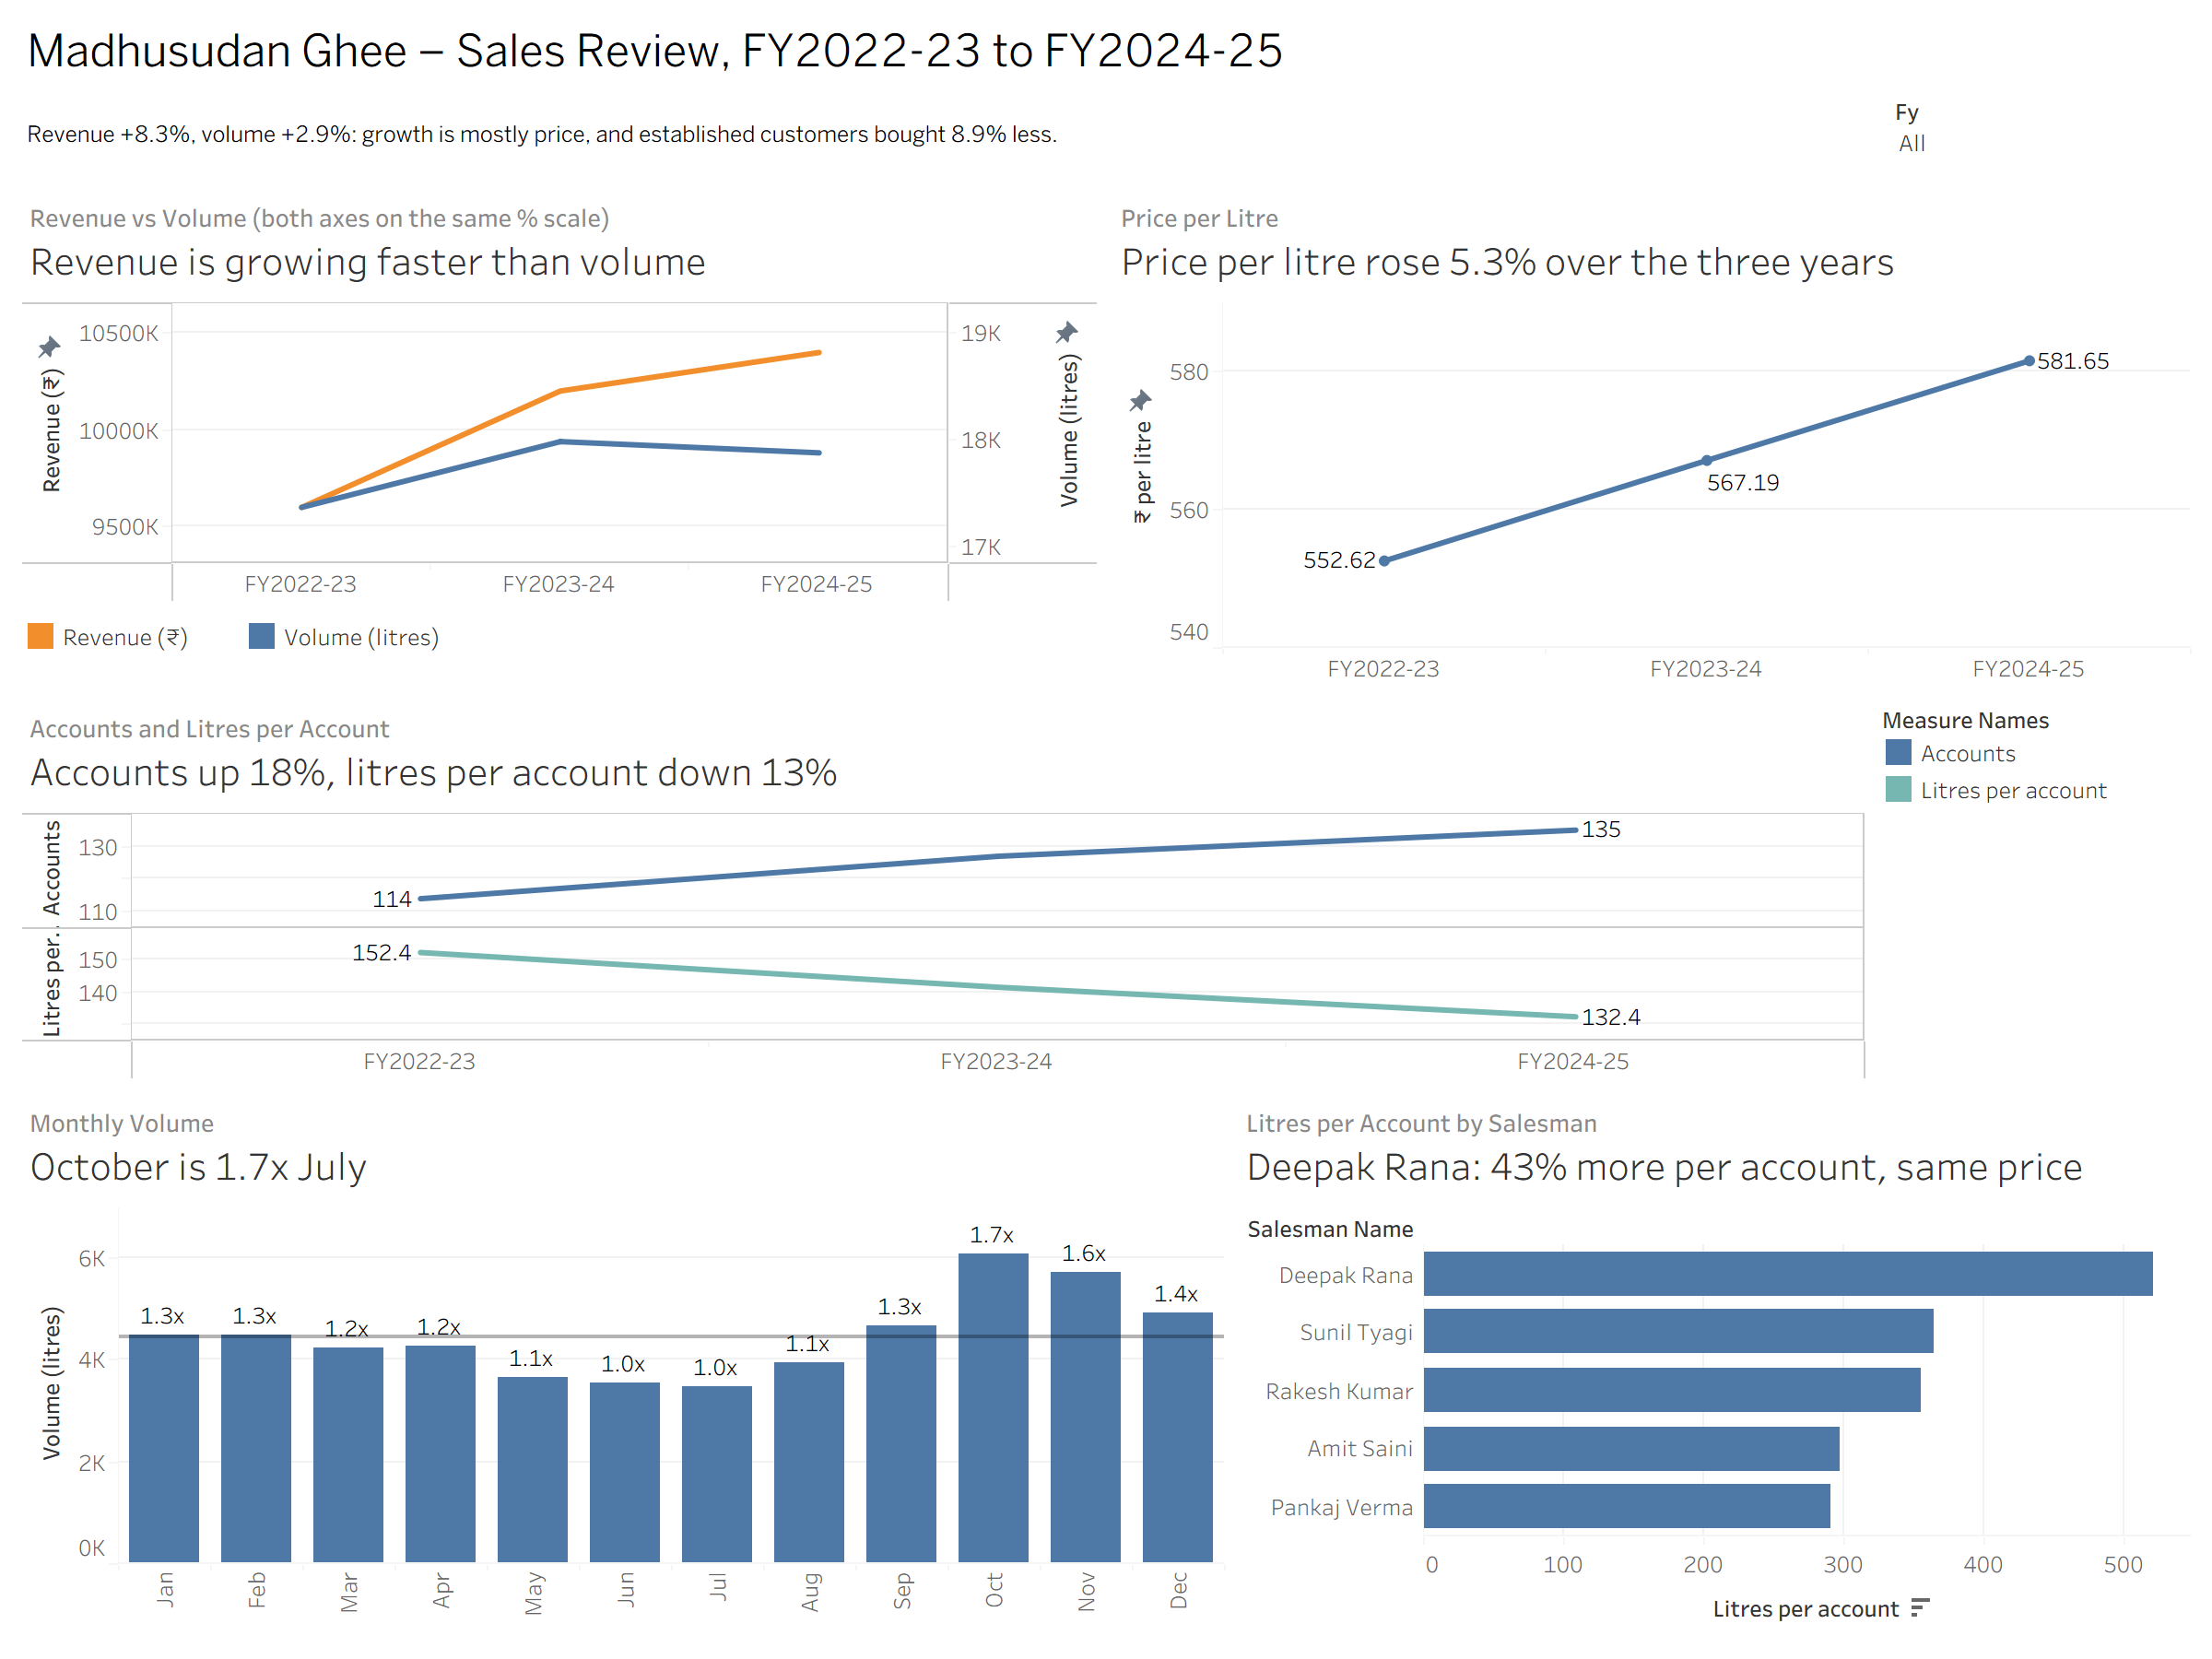

The page's visual inventory and layout, read from the dashboard file:
{"tool":"tableau","page":{"name":"Sales Review","canvas":[1200,900],"ordinal":0},"visuals":[{"type":"text","box":[0,0,1200,72]},{"type":"worksheet","title":"Revenue by Year","mark":"Line","rows":["sales_amount"],"cols":["fy"],"box":[0,72,600,270]},{"type":"worksheet","title":"Volume by Year","mark":"Line","rows":["litres"],"cols":["fy"],"box":[600,72,600,270]},{"type":"worksheet","title":"Price per Litre","mark":"Bar","rows":["rate_per_litre"],"cols":["fy"],"box":[0,342,600,279]},{"type":"worksheet","title":"Volume per Account","mark":"Bar","rows":["litres_per_account"],"cols":["fy"],"box":[600,342,600,279]},{"type":"worksheet","title":"Seasonality","mark":"Bar","rows":["litres"],"cols":["month_no"],"box":[0,621,600,279]},{"type":"worksheet","title":"Salesman Productivity","mark":"Bar","rows":["salesman_name"],"cols":["litres_per_account"],"box":[600,621,600,279]}]}

Visuals, with their boxes in screenshot pixels (x1, y1, x2, y2), scaled from the page's 1200x900 canvas onto the 2212x1659 screenshot:
text: [x1=0, y1=0, x2=2211, y2=133]
"Revenue by Year" worksheet (Line marks): [x1=0, y1=133, x2=1106, y2=630]
"Volume by Year" worksheet (Line marks): [x1=1106, y1=133, x2=2211, y2=630]
"Price per Litre" worksheet (Bar marks): [x1=0, y1=630, x2=1106, y2=1145]
"Volume per Account" worksheet (Bar marks): [x1=1106, y1=630, x2=2211, y2=1145]
"Seasonality" worksheet (Bar marks): [x1=0, y1=1145, x2=1106, y2=1658]
"Salesman Productivity" worksheet (Bar marks): [x1=1106, y1=1145, x2=2211, y2=1658]
